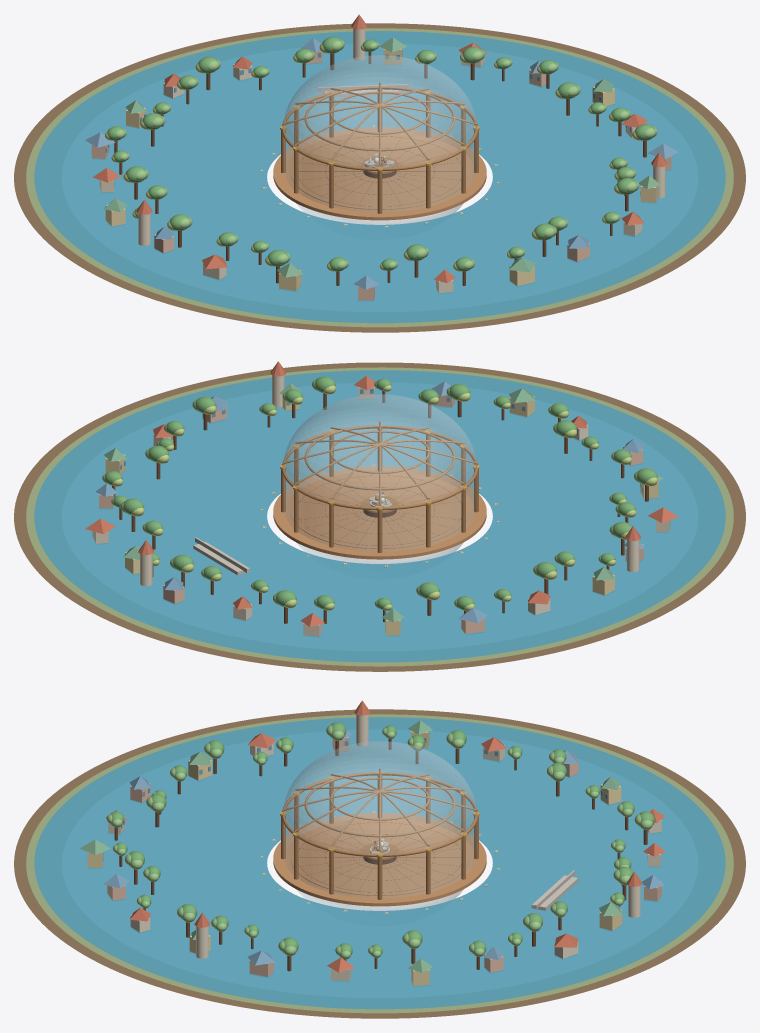
Rendered from atelier_environment_web.glb.
3 views of the same model, one above another, from view 1: azimuth 30°, elevation 25°; view 2: azimuth 150°, elevation 25°; view 3: azimuth 270°, elevation 25° (orthographic).
Parts seen in each view (by area): view 1: EXT Water Surface, Glass Dome, EXT Soil Shore, Inner Floor, EXT Green Shore, Pavilion Floor, Roof Ring 9.5, Roof Ring 7.3, Roof Ring 4.8; view 2: EXT Water Surface, Glass Dome, EXT Soil Shore, Inner Floor, EXT Green Shore, Pavilion Floor, Roof Ring 9.5, Roof Ring 7.3, Roof Ring 4.8, EXT Bridge Deck; view 3: EXT Water Surface, Glass Dome, EXT Soil Shore, Inner Floor, EXT Green Shore, Pavilion Floor, Roof Ring 9.5, Roof Ring 7.3, Roof Ring 4.8, EXT Bridge Deck.
Part boxes in pixels (x1,y1,x2,y2): EXT Water Surface: (34, 31, 725, 323); Glass Dome: (283, 55, 476, 224); EXT Soil Shore: (14, 23, 745, 332); Inner Floor: (290, 134, 469, 209); EXT Green Shore: (26, 28, 733, 327); Pavilion Floor: (273, 127, 486, 220); Roof Ring 9.5: (282, 86, 477, 170); Roof Ring 7.3: (304, 86, 455, 151); Roof Ring 4.8: (330, 91, 429, 134); EXT Water Surface: (34, 370, 725, 662); Glass Dome: (283, 394, 476, 563); EXT Soil Shore: (14, 362, 745, 671); Inner Floor: (290, 473, 469, 548); EXT Green Shore: (26, 367, 733, 666); Pavilion Floor: (273, 466, 486, 559); Roof Ring 9.5: (282, 426, 477, 510); Roof Ring 7.3: (304, 425, 455, 490); Roof Ring 4.8: (330, 430, 429, 473); EXT Bridge Deck: (193, 541, 249, 575); EXT Water Surface: (34, 717, 725, 1009); Glass Dome: (283, 741, 476, 910); EXT Soil Shore: (14, 709, 745, 1018); Inner Floor: (290, 820, 469, 895); EXT Green Shore: (26, 714, 733, 1013); Pavilion Floor: (273, 813, 486, 906); Roof Ring 9.5: (282, 772, 477, 856); Roof Ring 7.3: (304, 772, 455, 837); Roof Ring 4.8: (330, 777, 429, 820); EXT Bridge Deck: (531, 875, 578, 910).
Size of the model in its own units: 72 by 17.41 by 72.
